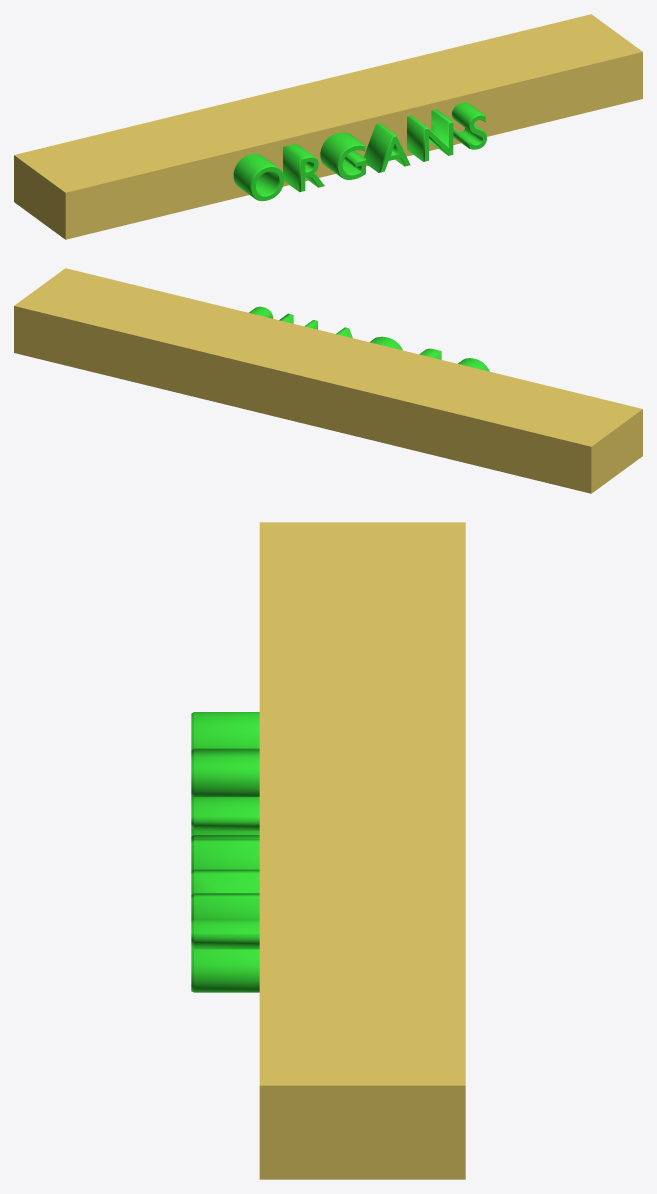
File: organs.gltf
The picture shows the model from 3 angles, top to bottom: view 1: azimuth 30°, elevation 25°; view 2: azimuth 150°, elevation 25°; view 3: azimuth 270°, elevation 25°; orthographic projection. The views are drawn at different scales.
Visible parts, largest first — view 1: Cube.002, CEELS.002; view 2: Cube.002, CEELS.002; view 3: Cube.002, CEELS.002.
Part boxes in pixels (left/top/right/bottom): Cube.002: left=14, top=14, right=642, bottom=239; CEELS.002: left=233, top=102, right=486, bottom=201; Cube.002: left=14, top=268, right=642, bottom=493; CEELS.002: left=249, top=306, right=489, bottom=371; Cube.002: left=259, top=522, right=465, bottom=1179; CEELS.002: left=191, top=712, right=259, bottom=992.
Size of the model in its own units: 3.98 by 0.3096 by 0.8191.
